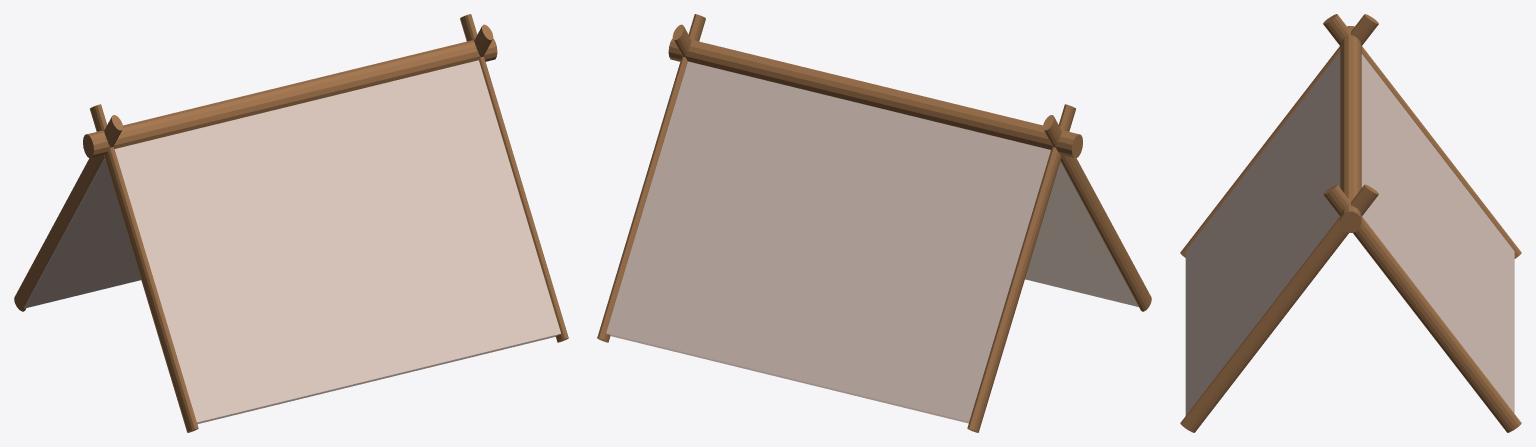
File: Tent.fbx
3 views of the same model, side by side, from view 1: azimuth 30°, elevation 25°; view 2: azimuth 150°, elevation 25°; view 3: azimuth 270°, elevation 25° (orthographic). The views are drawn at different scales.
Visible parts, largest first — view 1: Cube.001; view 2: Cube.001; view 3: Cube.001.
Boxes of the visible parts, left/top/right/bottom form: Cube.001: left=14, top=14, right=568, bottom=432; Cube.001: left=597, top=14, right=1151, bottom=432; Cube.001: left=1180, top=14, right=1521, bottom=432.
Size of the model in its own units: 680 by 423 by 528.
